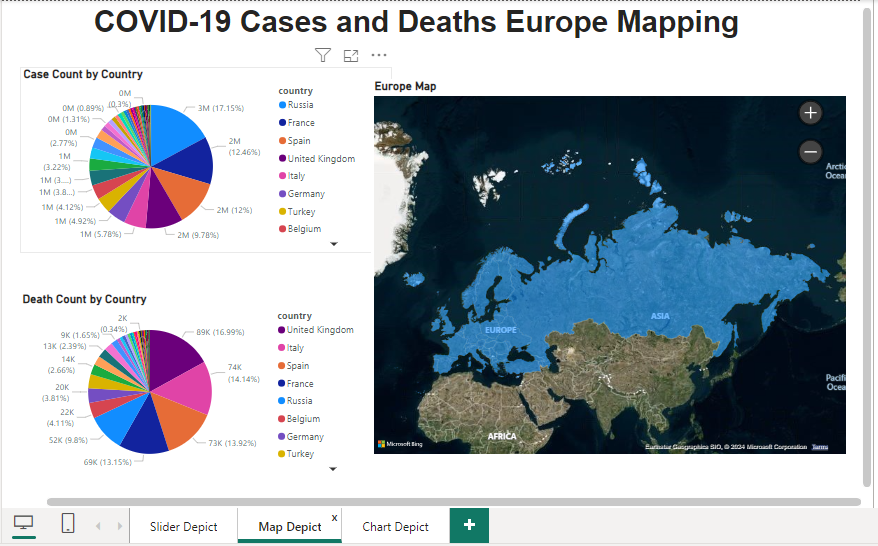

The page's visual inventory and layout, read from the dashboard file:
{"tool":"powerbi","page":{"name":"Map Depict","canvas":[1280,720],"ordinal":1},"visuals":[{"type":"textbox","box":[10,0,1270,64.3],"z":0},{"type":"pieChart","title":"Case Count by Country","fields":{"Y":["Sum(covid_reporting cases_and_deaths.case_count)"],"Category":["covid_reporting cases_and_deaths.country"]},"box":[78.6,94.3,531.4,265.7],"z":1000},{"type":"pieChart","title":"Death Count by Country","fields":{"Y":["Sum(covid_reporting cases_and_deaths.death_count)"],"Category":["covid_reporting cases_and_deaths.country"]},"box":[77.5,415,531.2,266.2],"z":2000},{"type":"filledMap","title":"Europe Map","fields":{"Category":["covid_reporting cases_and_deaths.country"]},"box":[580.5,111.7,683.4,540.8],"z":3000}]}

Visuals, with their boxes on the page's 1280x720 design canvas (x1, y1, x2, y2). These are canvas units, not pixel positions in the 878x546 screenshot, which may show the page scaled, cropped or inside an application window:
textbox: bbox(10, 0, 1280, 64)
"Case Count by Country" pieChart: bbox(79, 94, 610, 360)
"Death Count by Country" pieChart: bbox(78, 415, 609, 681)
"Europe Map" filledMap: bbox(580, 112, 1264, 652)
